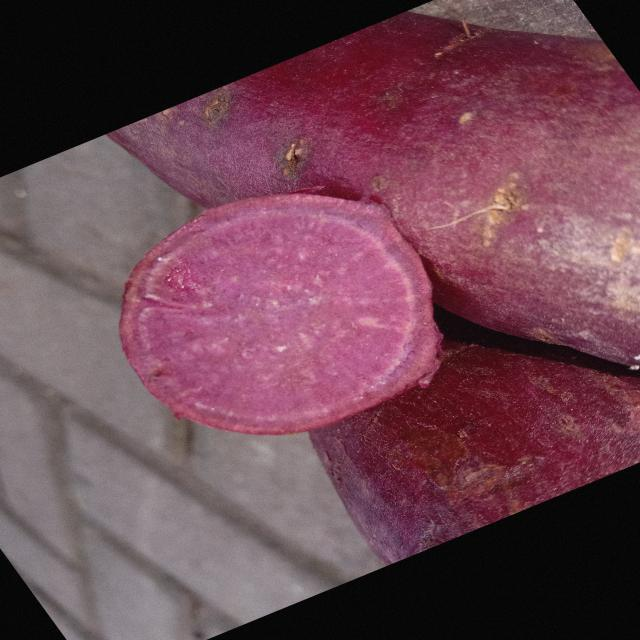Healthy Sweet Potato: (120, 194, 442, 435)
